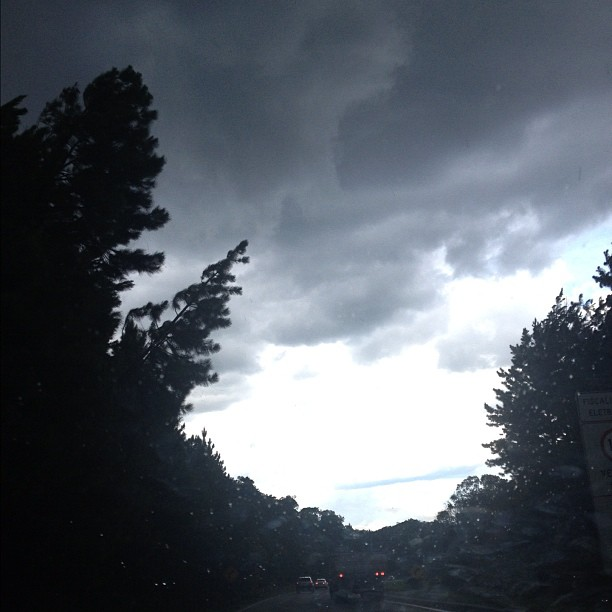sky: (173, 1, 612, 435)
tree: (1, 83, 237, 490), (489, 297, 612, 612)
